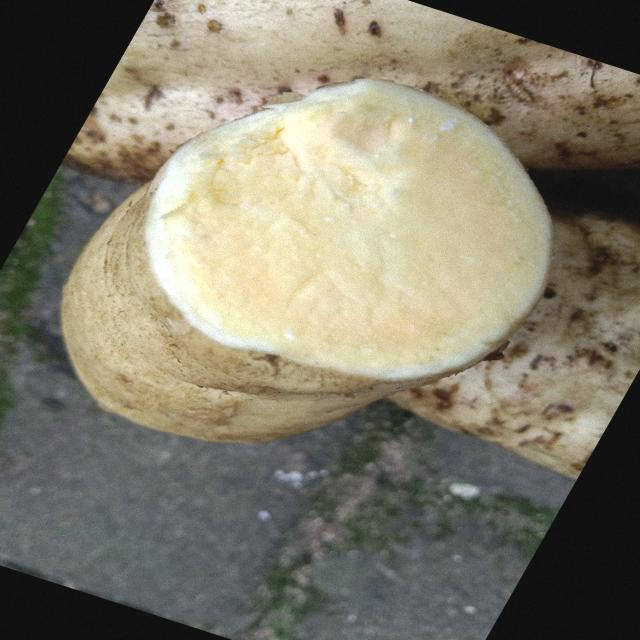Healthy Sweet Potato: (145, 79, 550, 379)
